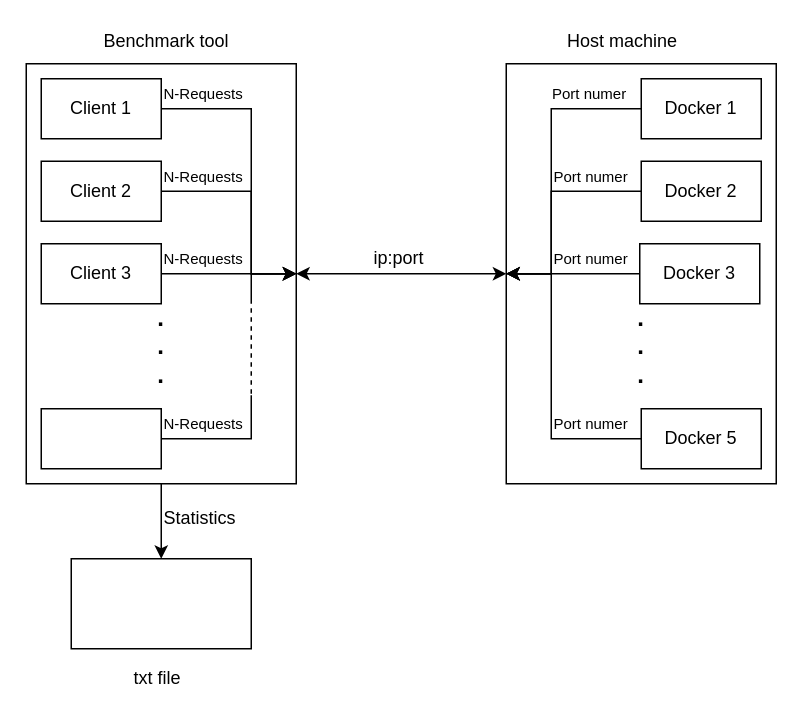
The diagram is 803 pixels wide and 719 high, and some of its shapes have lost their labels. The centre of each missing label's shape, as x and y in pixels:
"Client N" goes at [100,438].
"Report" goes at [160,603].
